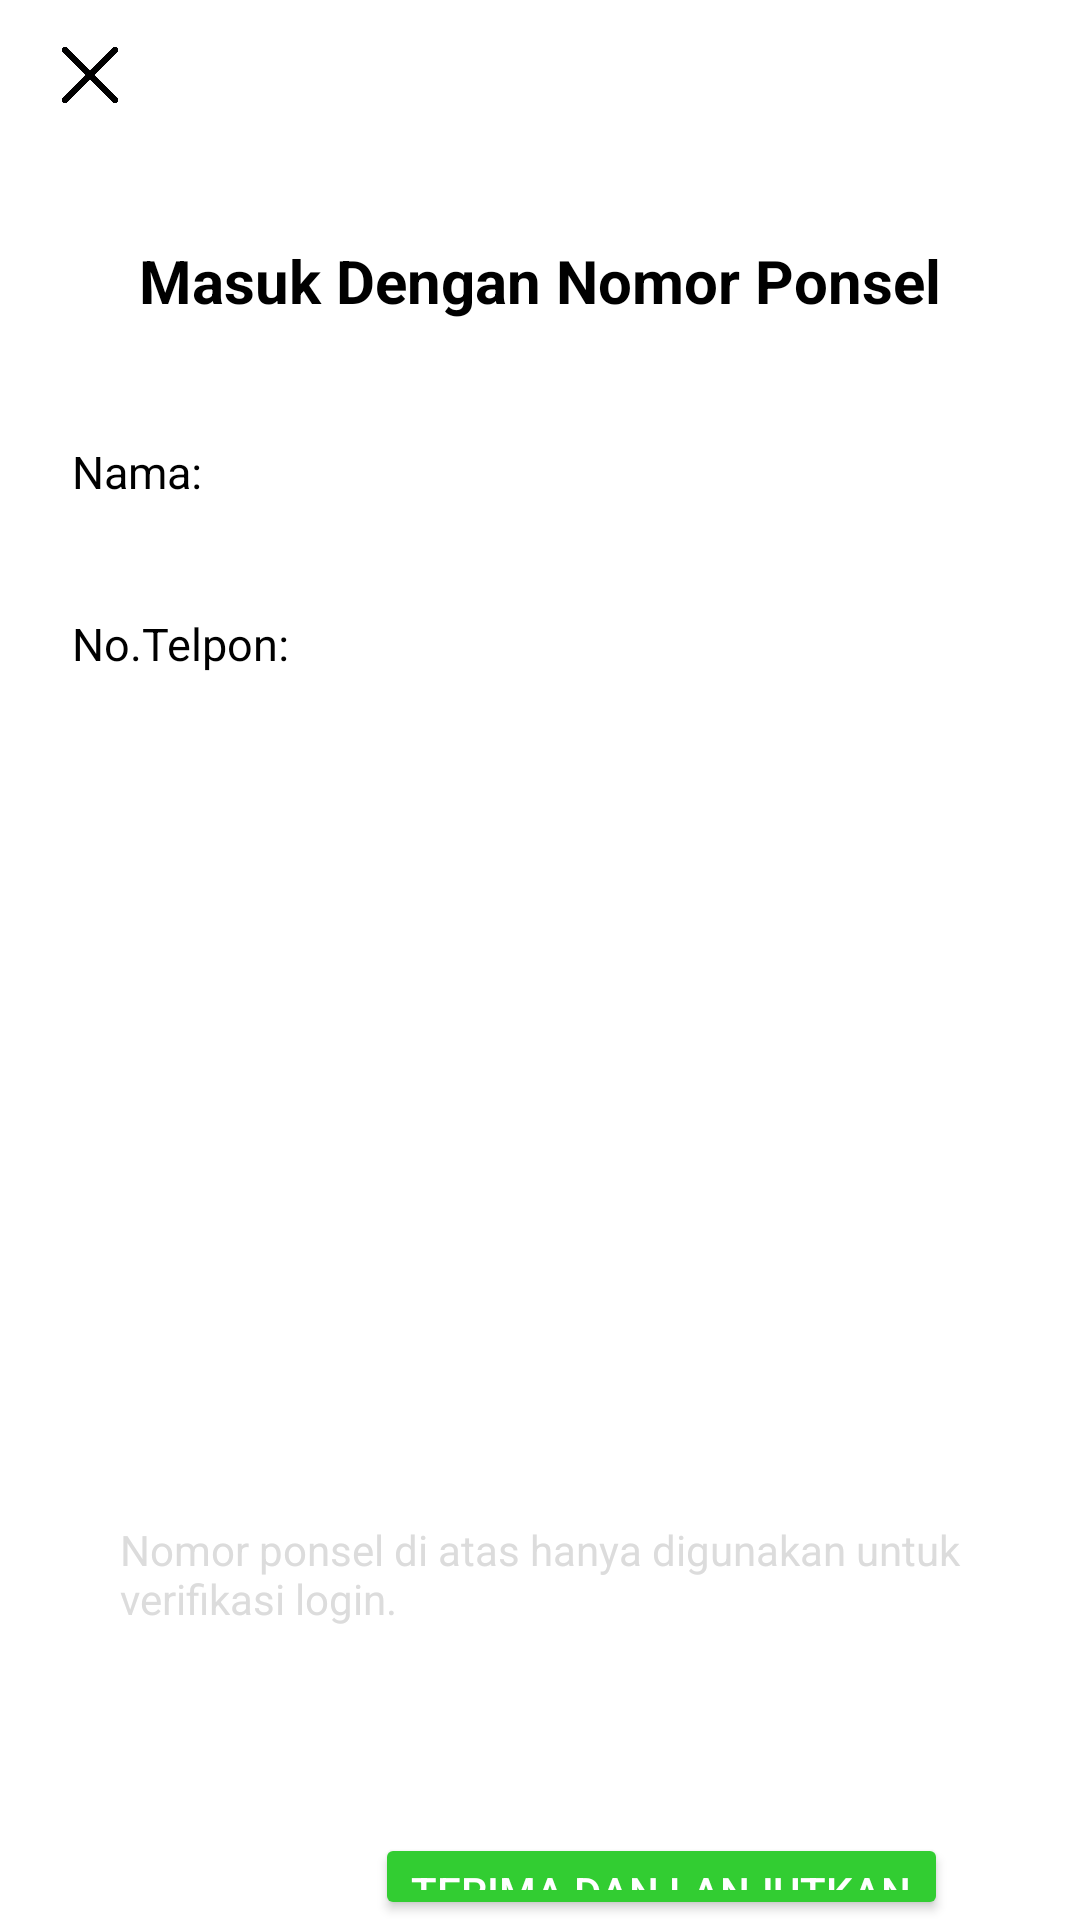

Screen size 1080w x 1920h. Icon name, then its center in pixels as (x=x, y=y):
kali: (x=90, y=75)
